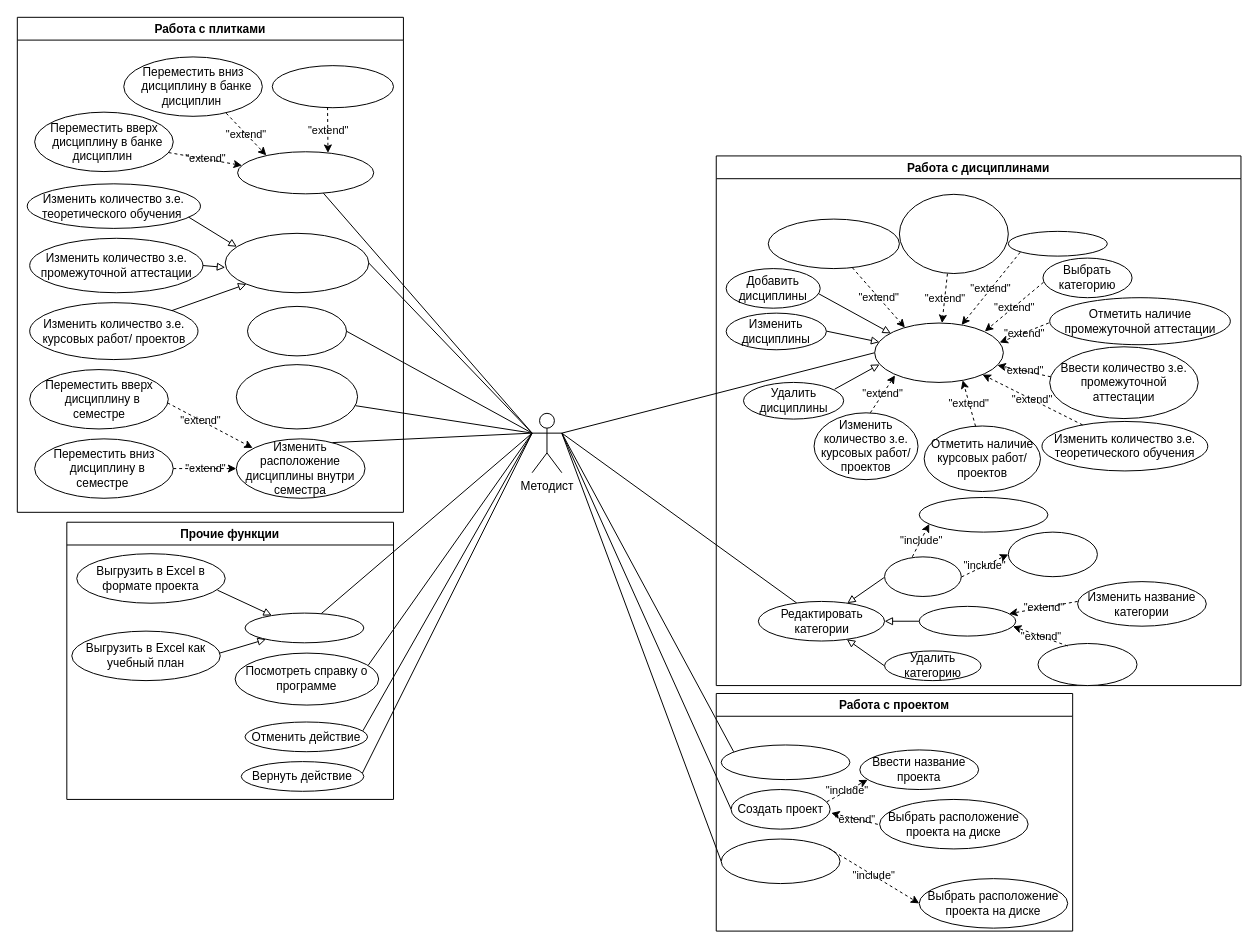
This 1258x948 diagram has some shape labels left out. The centre of each missing label's shape, as x and y in pixels:
"Ввести название категории" belongs at point 983,514.
"Выбрать блок" belongs at point 1057,243.
"Выбрать цвет категории" belongs at point 1052,554.
"Выгрузить в Excel" belongs at point 304,627.
"Добавить дисциплину в семестр" belongs at point 296,330.
"Добавить категорию" belongs at point 922,576.
"Изменить банк дисциплин" belongs at point 305,172.
"Изменить значение з.е. для плитки" belongs at point 296,262.
"Изменить категорию" belongs at point 967,620.
"Изменить название дисциплины" belongs at point 833,243.
"Изменить сокращенное название дисциплины" belongs at point 953,233.
"Изменить цвет категории" belongs at point 1087,664.
"Открыть существующий проект" belongs at point 780,861.
"Редактировать дисциплины" belongs at point 938,352.
"Сохранить проект" belongs at point 785,762.
"Удалить дисциплину" belongs at point 332,86.
"Удалить дисциплину из семестра" belongs at point 296,396.
